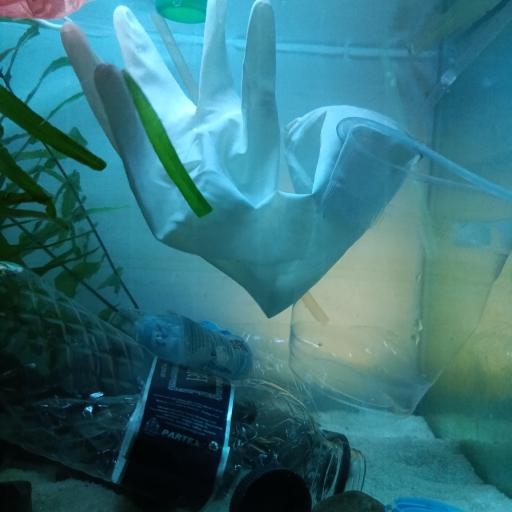bottle_cap: (226, 463, 311, 512), (385, 493, 462, 512), (158, 1, 208, 23)
glove: (61, 0, 421, 319)
mask: (0, 0, 84, 32)
plastic_bottle: (0, 260, 364, 508), (108, 310, 332, 384)
plastic_cup: (287, 116, 512, 420)
plastic_straw: (421, 12, 512, 114), (152, 13, 198, 106)
